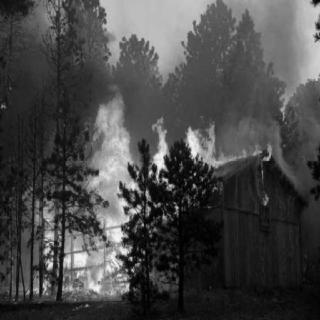Fire: (36, 101, 148, 298), (144, 119, 274, 220)
